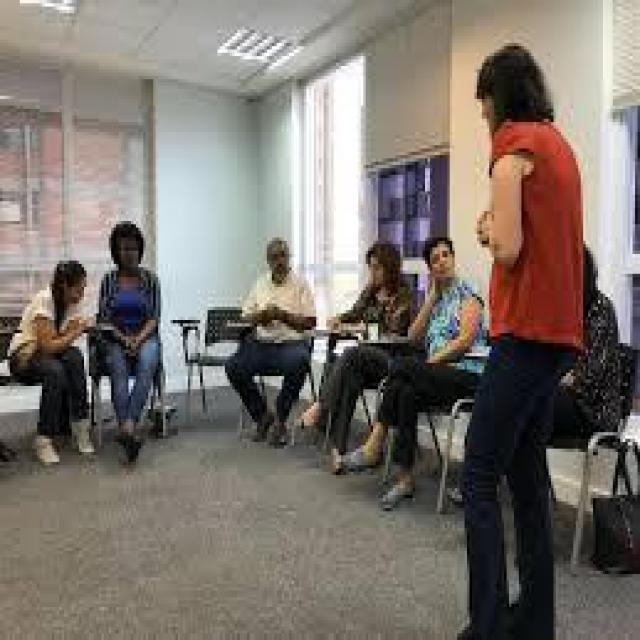person: (435, 16, 578, 636), (393, 198, 489, 485), (8, 214, 106, 472), (218, 204, 312, 472), (96, 192, 173, 478), (323, 218, 408, 419), (561, 204, 620, 485)
